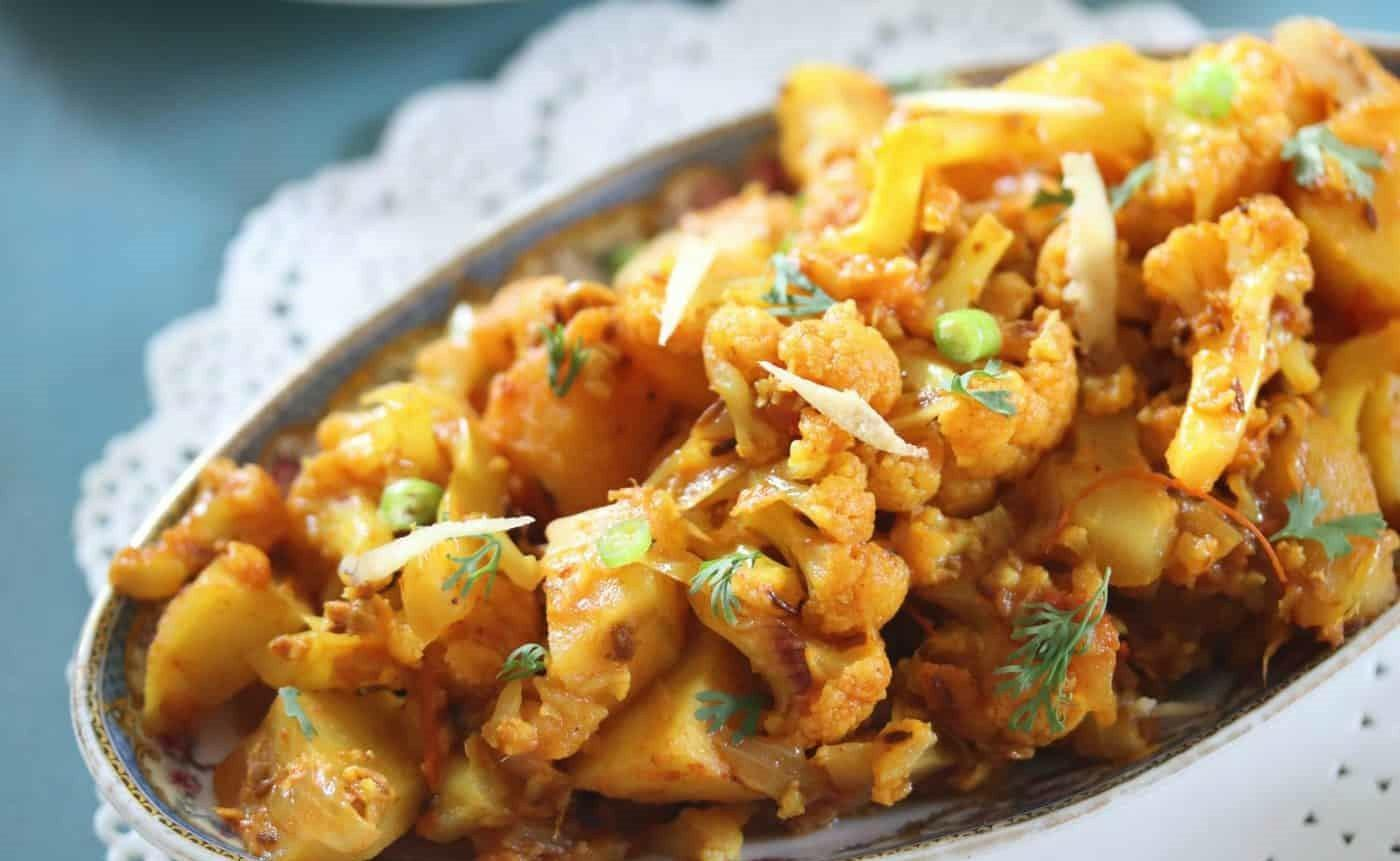AlooGobi: (110, 17, 1400, 861)
